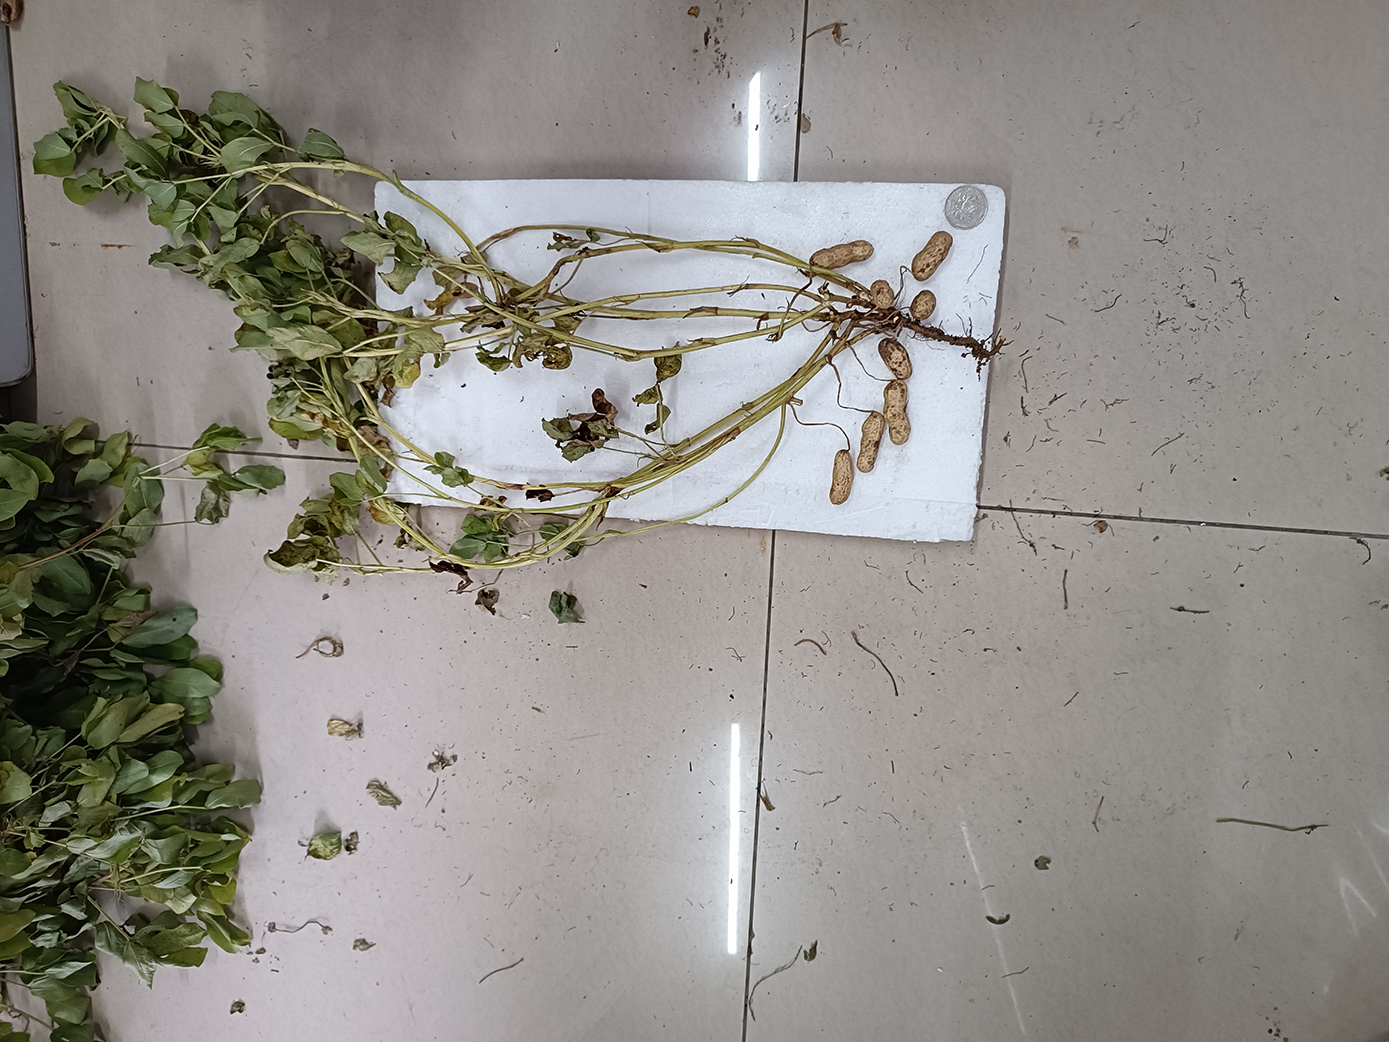h: (913, 231, 953, 280), (809, 240, 873, 269), (883, 382, 911, 447), (857, 412, 884, 473), (876, 337, 915, 379), (830, 449, 854, 506), (911, 290, 937, 323), (869, 279, 894, 310)
